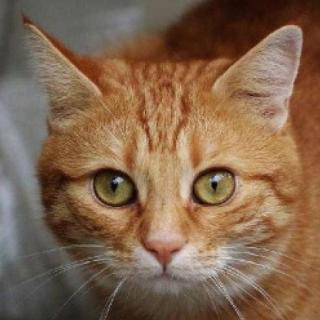cat: (20, 14, 307, 299)
nose: (138, 210, 195, 270)
